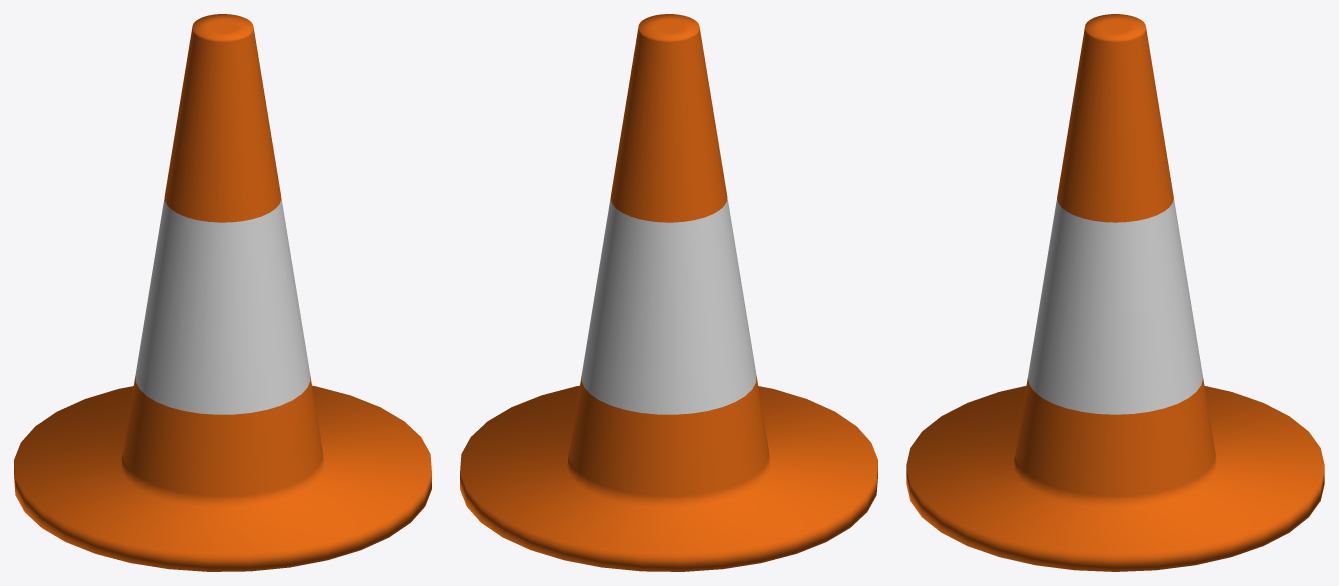
3 renders of one model, left to right at view 1: azimuth 30°, elevation 25°; view 2: azimuth 150°, elevation 25°; view 3: azimuth 270°, elevation 25°, orthographic.
Visible parts, largest first — view 1: Cylinder.001; view 2: Cylinder.001; view 3: Cylinder.001.
Boxes of the visible parts, box(x1,y1,x2,y2) form: Cylinder.001: box(14, 14, 431, 571); Cylinder.001: box(460, 14, 877, 571); Cylinder.001: box(906, 14, 1324, 571).
Bounding box in the file's own units: 2.49 × 3 × 2.49.
